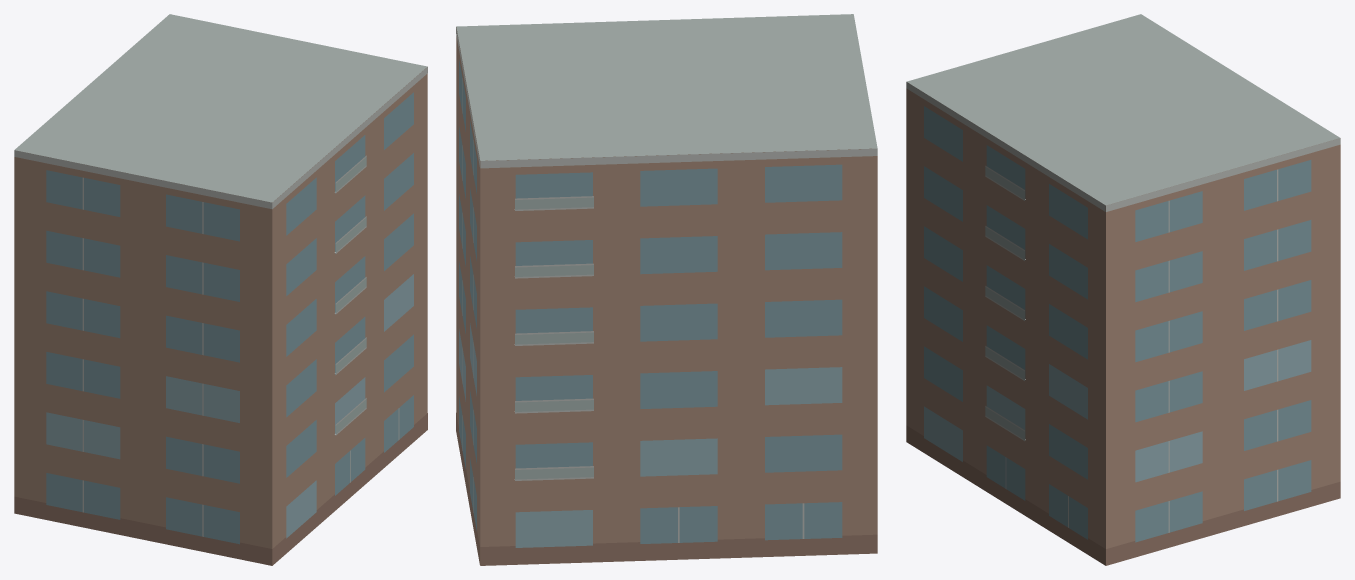
File: survey-upis-32887726.glb
The picture shows the model from 3 angles, left to right: view 1: azimuth 30°, elevation 25°; view 2: azimuth 150°, elevation 25°; view 3: azimuth 270°, elevation 25°; orthographic projection. The views are drawn at different scales.
Parts seen in each view (by area): view 1: survey-upis-32887726.tmp; view 2: survey-upis-32887726.tmp; view 3: survey-upis-32887726.tmp.
Boxes of the visible parts, bbox=[...] form: survey-upis-32887726.tmp: bbox=[14, 14, 427, 565]; survey-upis-32887726.tmp: bbox=[456, 14, 877, 565]; survey-upis-32887726.tmp: bbox=[906, 14, 1340, 565].
Size of the model in its own units: 15.06 by 13.2 by 14.42.
